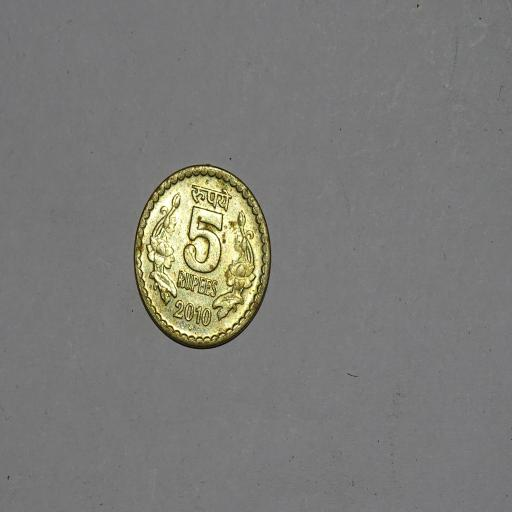rupee5: (131, 159, 274, 351)
